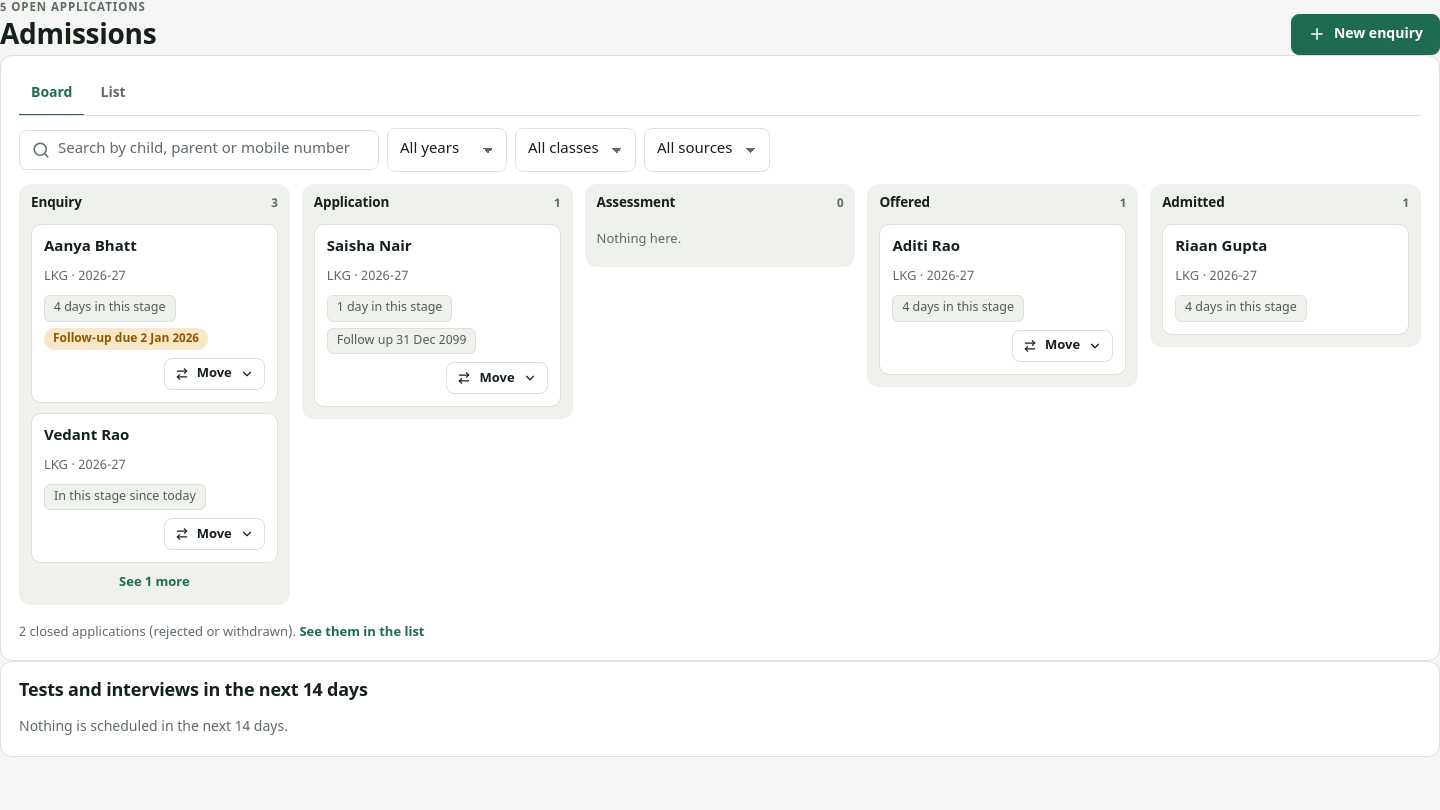
The admissions board › checks the offer dates before moving
Expected: the element with test id "admissions-board" is shown, [19,184,1421,611]
Click the button "Move" below "Follow up 31 Dec 2099".
click(497, 378)  # box [446,362,548,394]
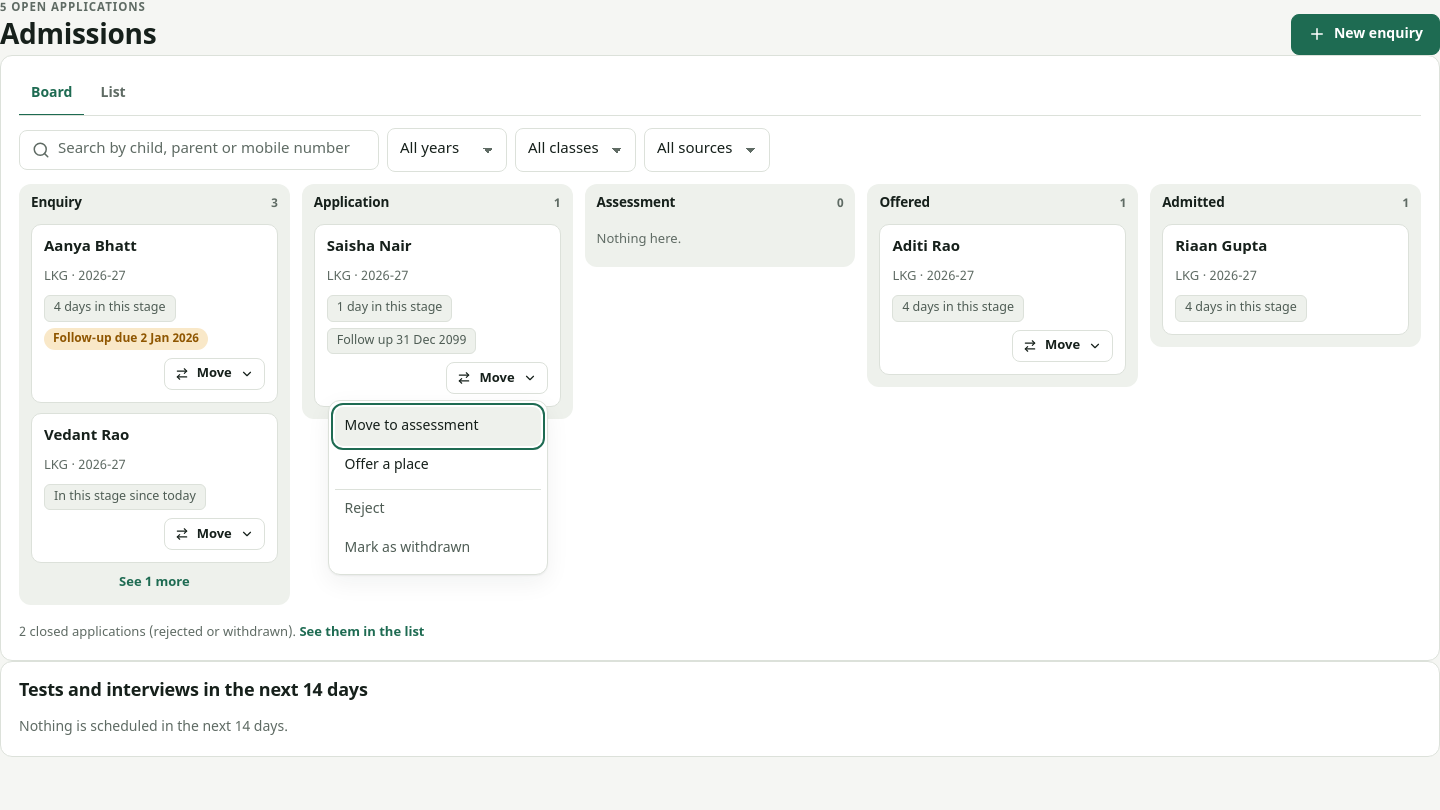
Click the menu item "Offer a place".
click(438, 466)  # box [335,446,541,485]
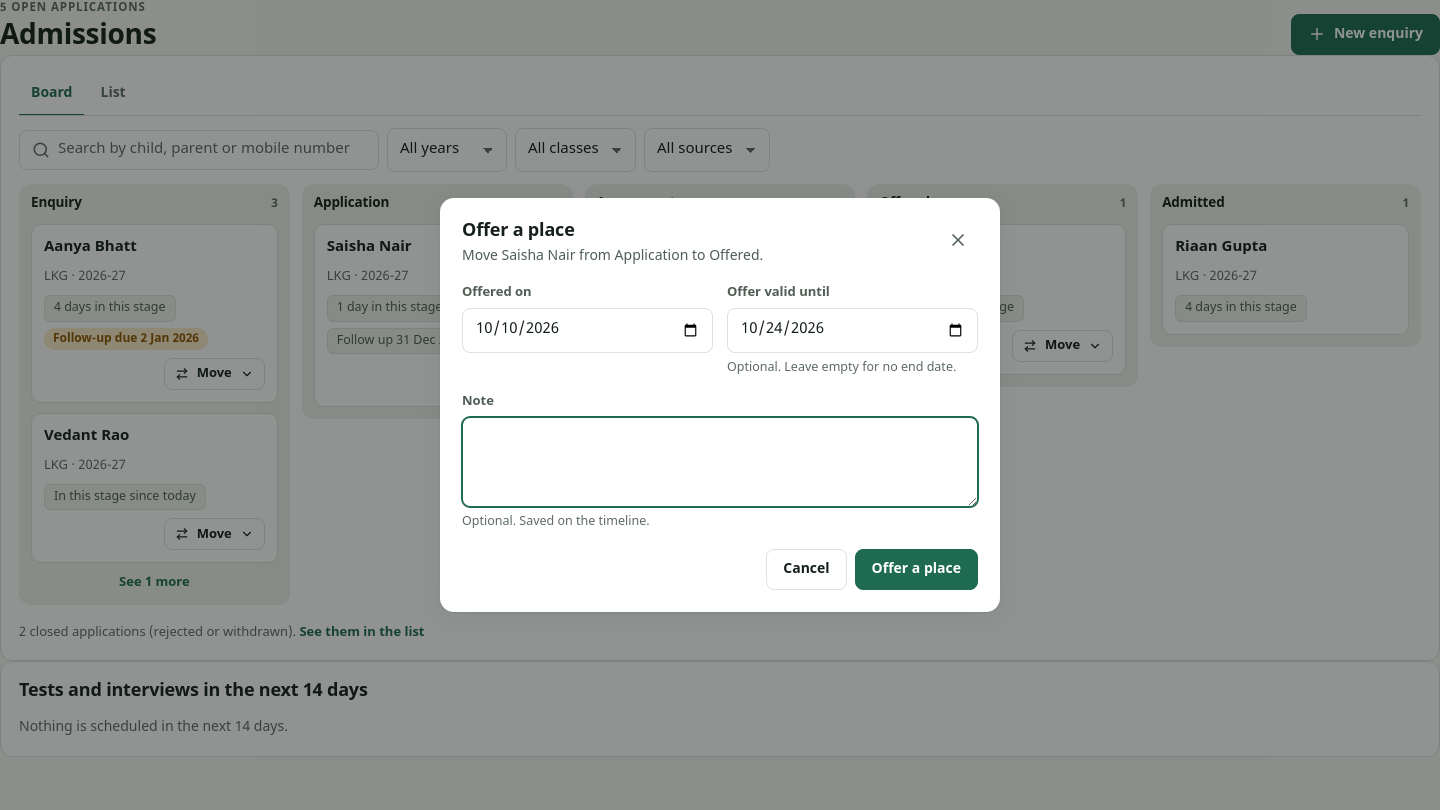
Type "2026-10-09" into the date field labelled "Offer valid until".
click(852, 331); type("2026-10-09")  # box [727,308,978,353]
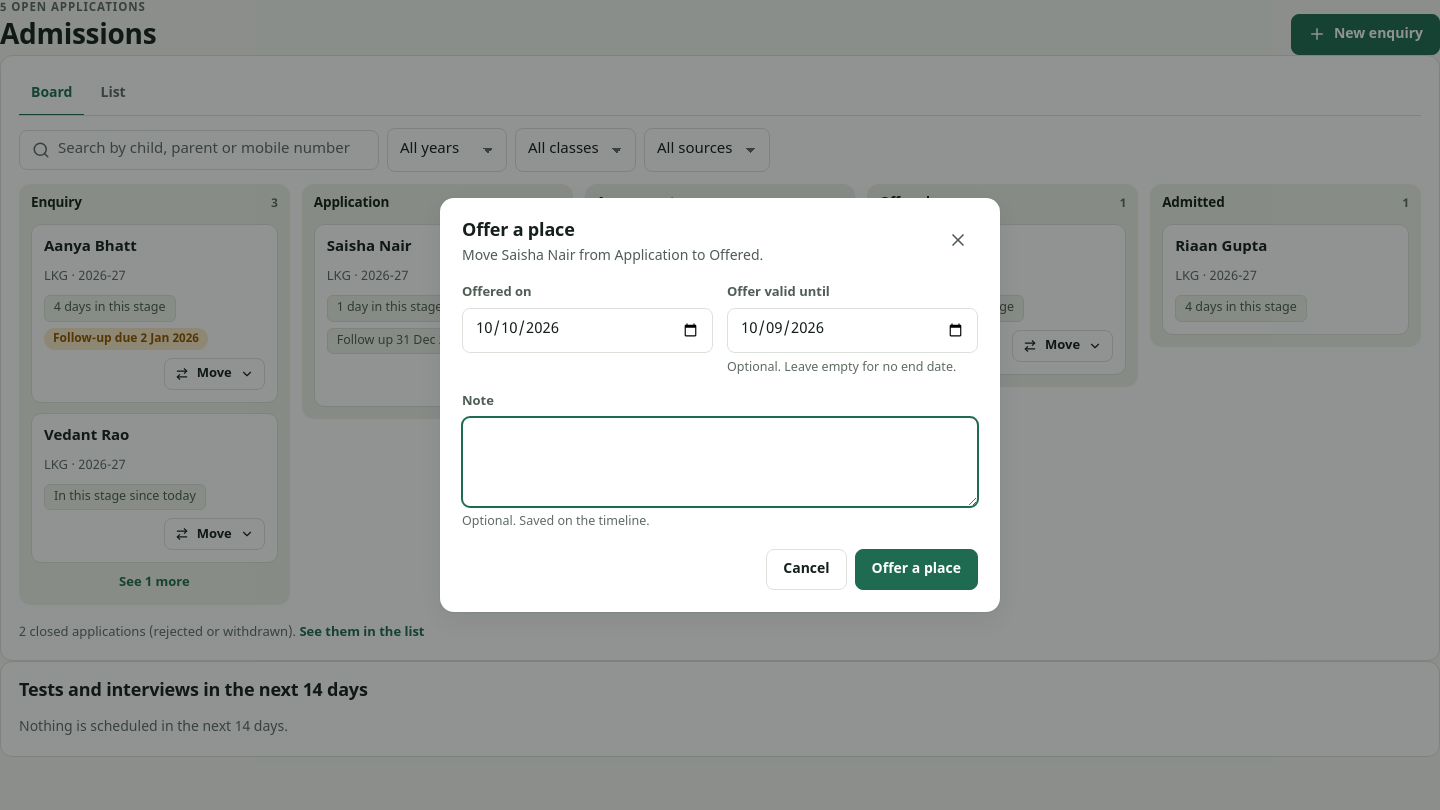
Click the button "Offer a place".
click(916, 570)  # box [855,549,978,590]
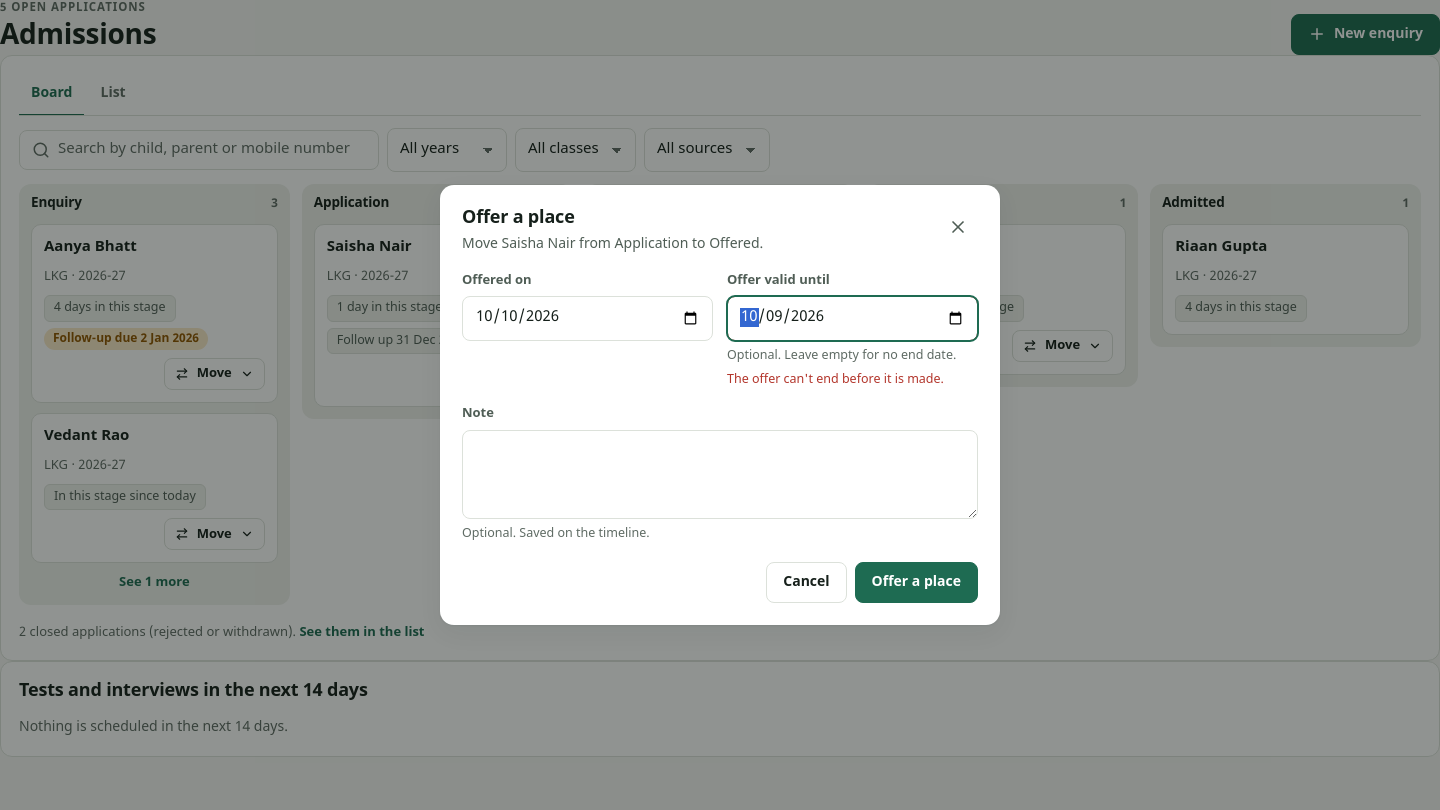
Now the text "The offer can't end before it is made." is shown, box [727,371,978,390]
